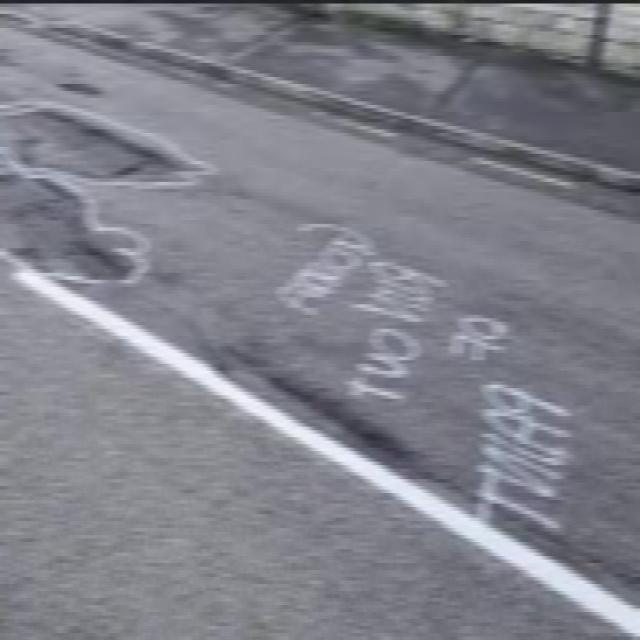Pothole: (0, 87, 212, 197), (0, 174, 143, 292), (60, 76, 105, 100)
